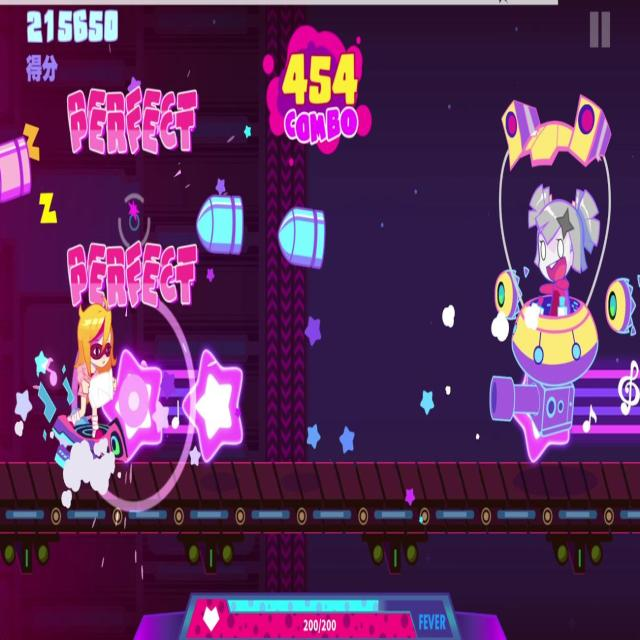hold: (101, 345, 248, 461), (508, 355, 640, 452)
jian: (276, 205, 330, 277), (196, 191, 247, 259), (0, 115, 28, 215)
qiangboss: (492, 86, 640, 435)
